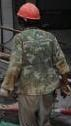hard-hat: (16, 0, 41, 18)
